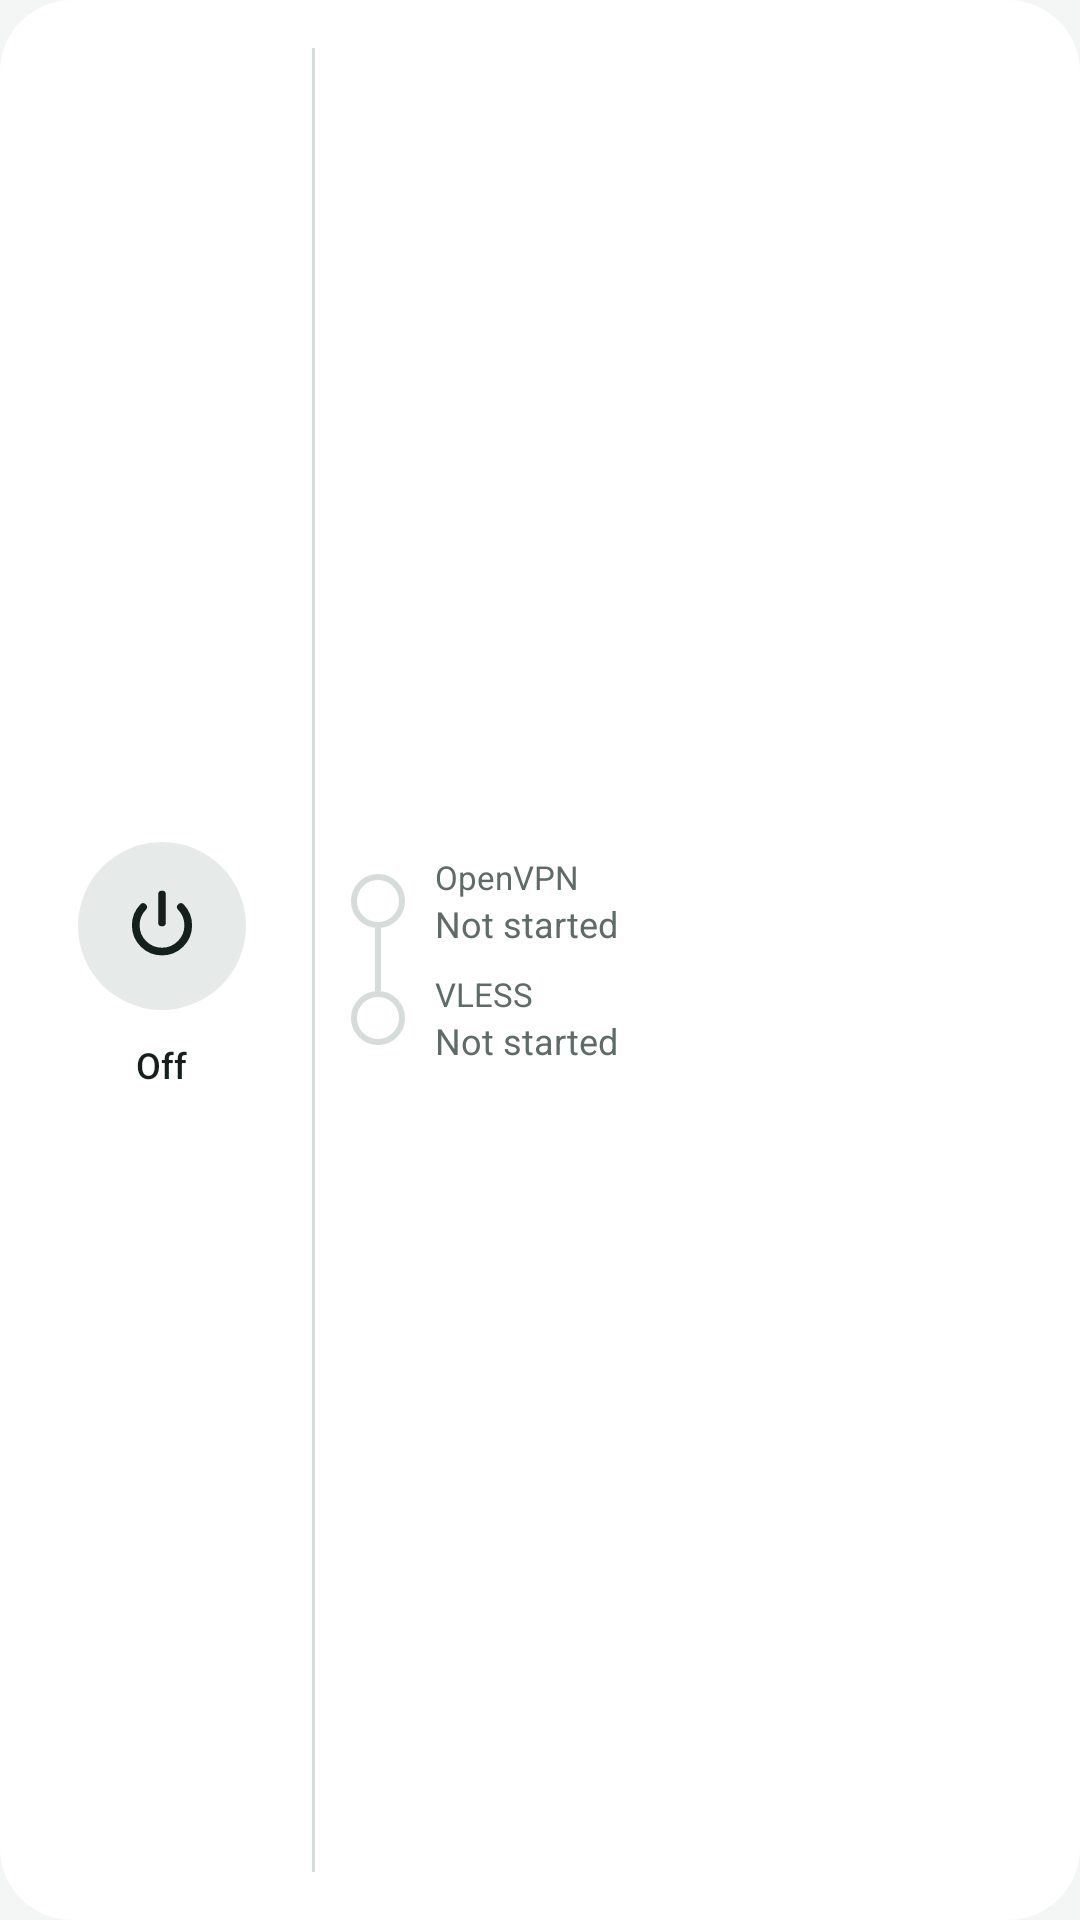

Screen size 1080x1920. Icon name, then its box in pixels as (x1, y1, x2, y2):
widget dot idle: (351, 874, 405, 928), (351, 991, 405, 1045)
